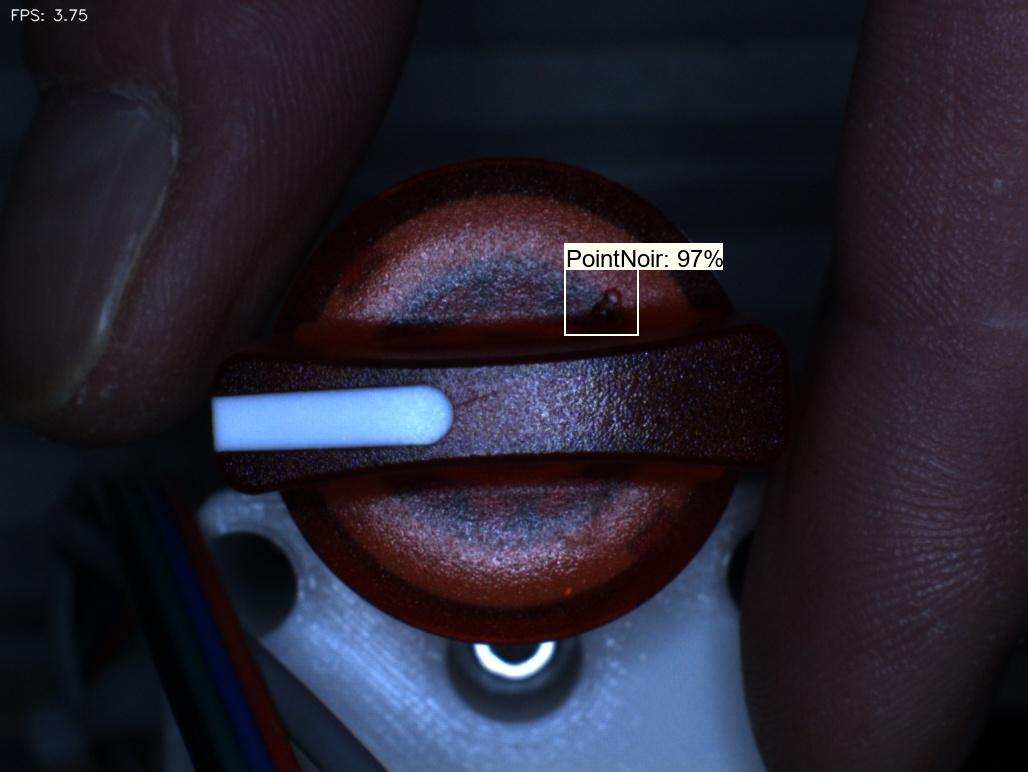Choc: (572, 272, 643, 352)
